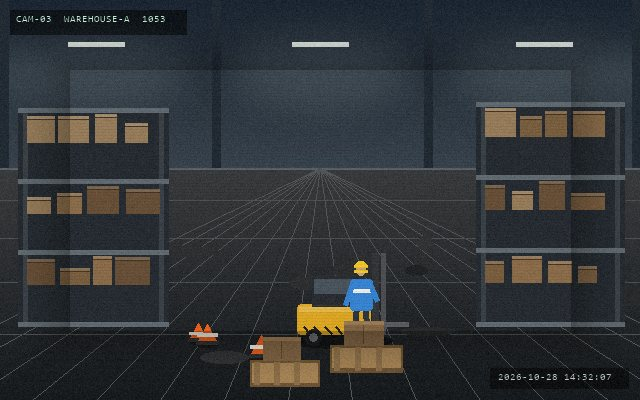cone: (248, 333, 274, 360), (195, 322, 219, 347), (187, 321, 209, 344)
forklift: (293, 251, 410, 348)
pallet: (328, 343, 404, 374), (248, 358, 321, 388)
person: (343, 259, 379, 342)
shelf: (476, 102, 624, 322), (18, 108, 168, 322)
